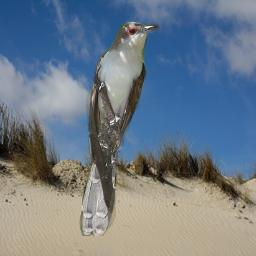Cuckoo: (79, 19, 160, 236)
